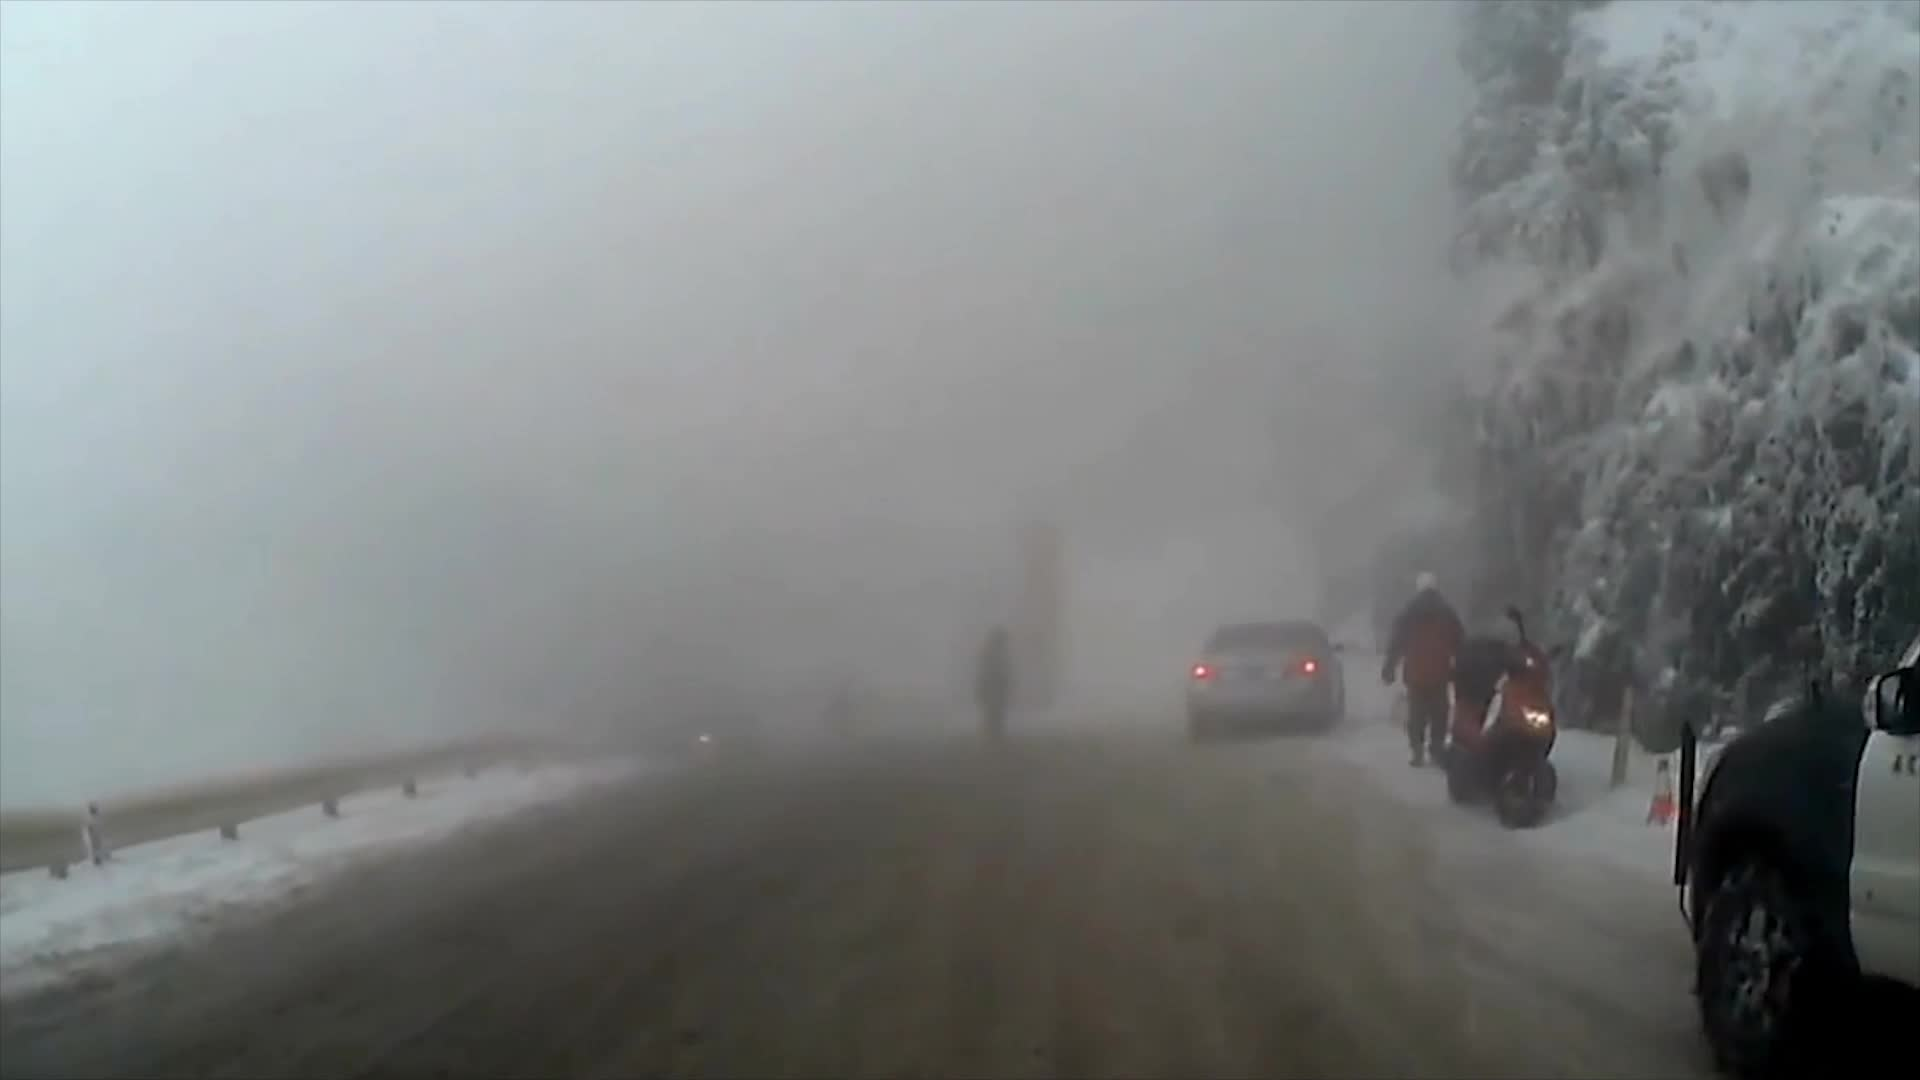pedestrian: (1380, 569, 1480, 774), (971, 634, 1011, 766)
vehicle: (1662, 567, 1917, 1080), (1179, 620, 1344, 747)
